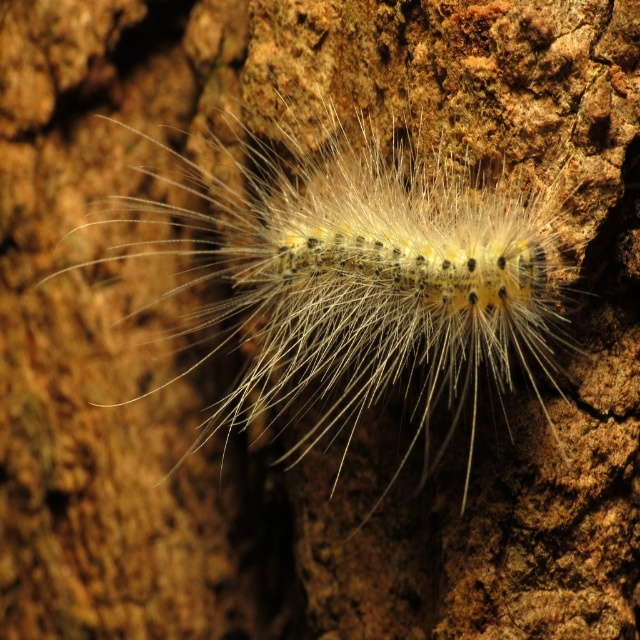Caterpillar: (36, 83, 598, 542)
